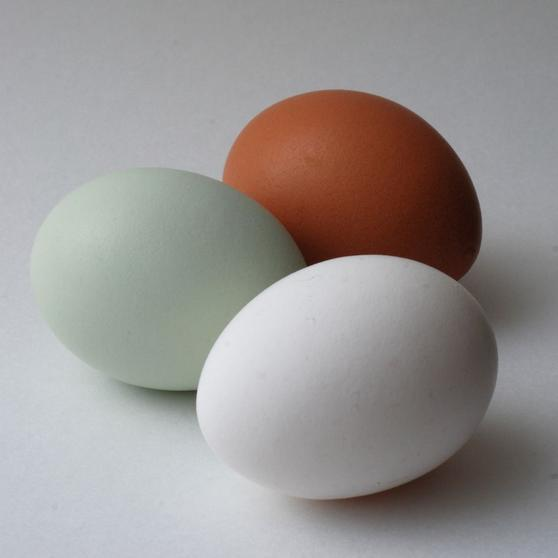egg: (195, 250, 499, 501)
